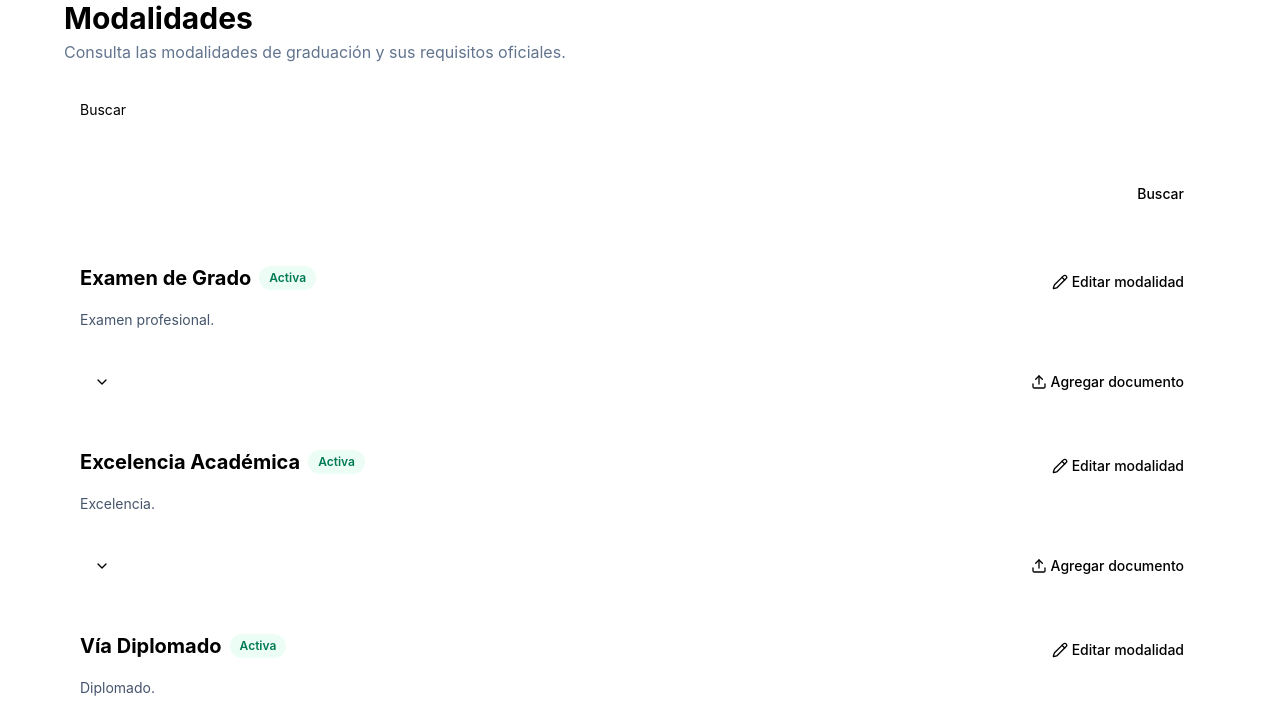
Test case: el modal de actualización muestra el documento actual y mantiene vacío el nuevo File input
Click the button named "Documentos oficiales (1)" below "Examen profesional." at x=102, y=382, box [80,360,124,404]
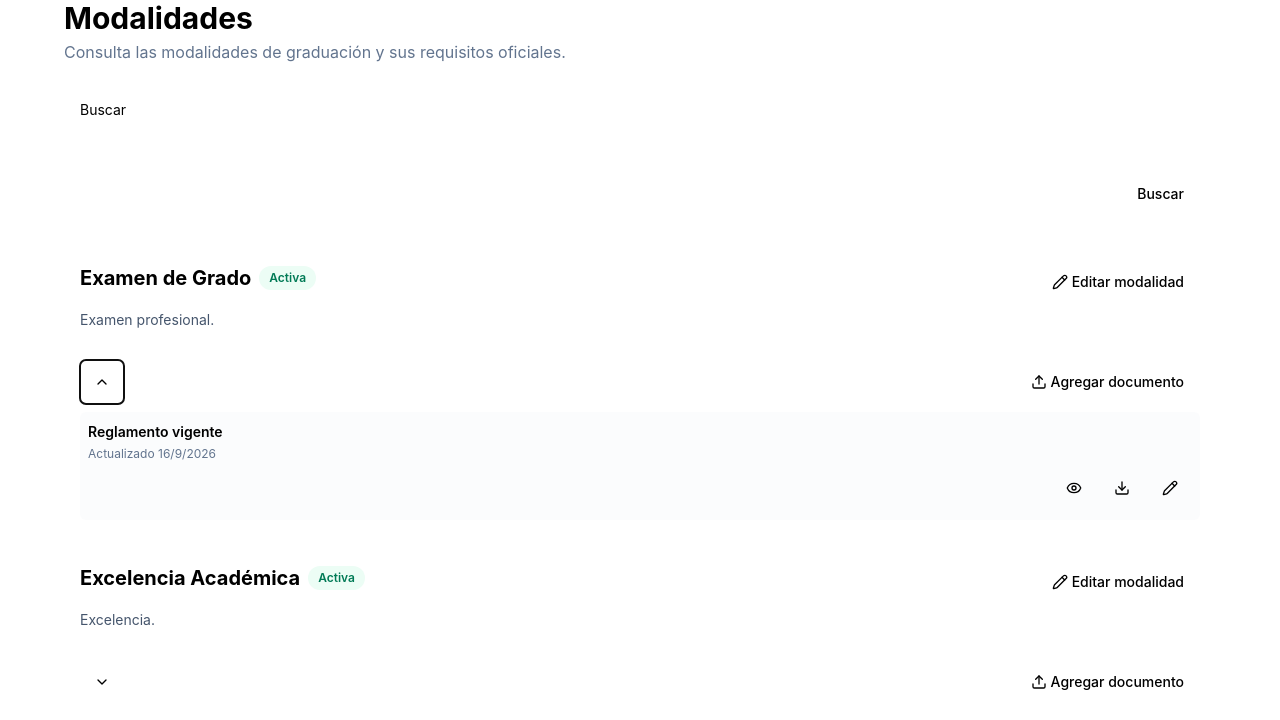
Click the button named "Editar Reglamento vigente" at x=1170, y=488, box [1148,466,1192,510]
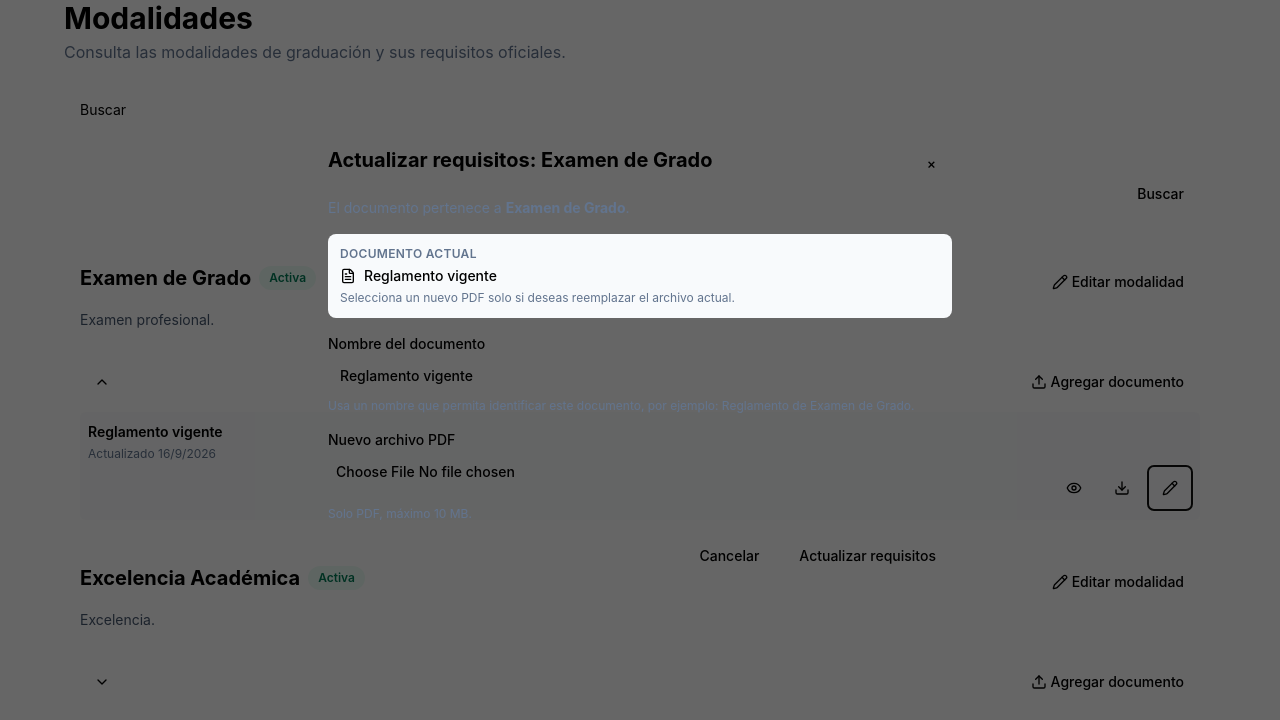
Result: the text "Documento actual" is shown at [340,246,477,261]
Result: the text "Reglamento vigente" is shown at [340,267,497,284]
Result: the text "Selecciona un nuevo PDF solo si deseas reemplazar el archivo actual." is shown at [340,290,735,305]
